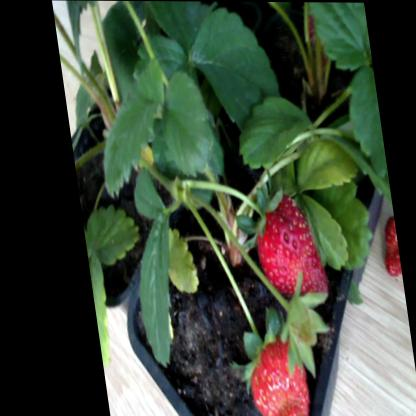ripe: (244, 192, 322, 301), (227, 332, 298, 416), (369, 211, 395, 278)
